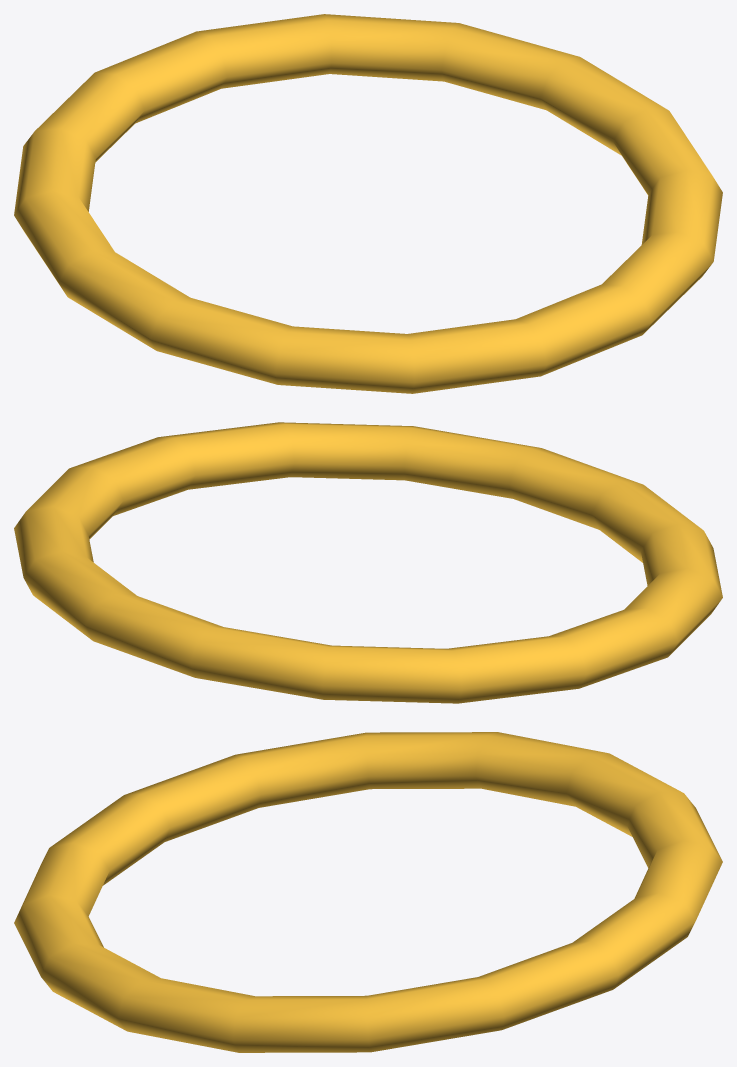
Rendered from halo_angel_basic_player_color.glb.
The picture shows the model from 3 angles, top to bottom: view 1: azimuth 30°, elevation 25°; view 2: azimuth 150°, elevation 25°; view 3: azimuth 270°, elevation 25°; orthographic projection.
Parts seen in each view (by area): view 1: secondary; view 2: secondary; view 3: secondary.
Boxes of the visible parts, x1,y1,x2,y2 form: secondary: [14, 14, 722, 393]; secondary: [14, 422, 722, 703]; secondary: [14, 732, 722, 1052].
Bounding box in the file's own units: 0.38 × 0.0608 × 0.3783.
